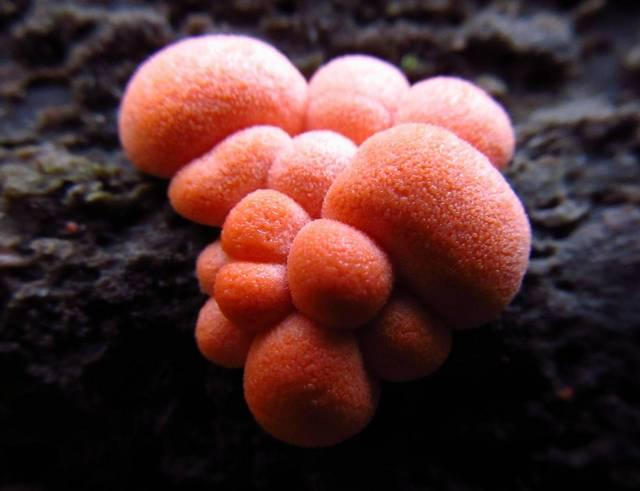poisonous_mushroom: (117, 31, 533, 447), (320, 121, 532, 327), (116, 32, 307, 179), (241, 312, 378, 447), (285, 216, 394, 328), (393, 74, 516, 169), (303, 52, 410, 144)
